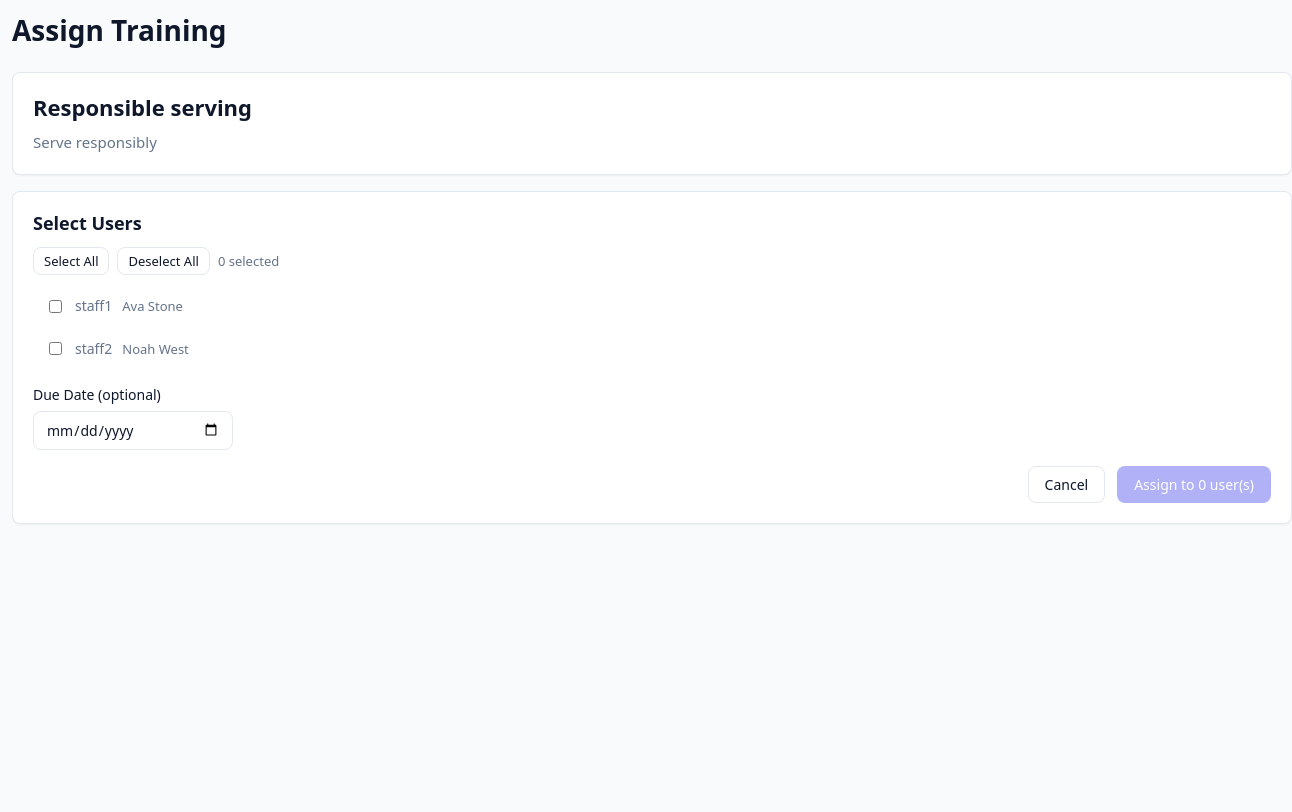
TrainingAssignView › loads the template and assigns training to selected users
expect the heading "Responsible serving" is shown: met, box [33,92,252,122]
Click the checkbox labelled "staff1 Ava Stone". click: (56, 307)
box: [49,300,62,313]
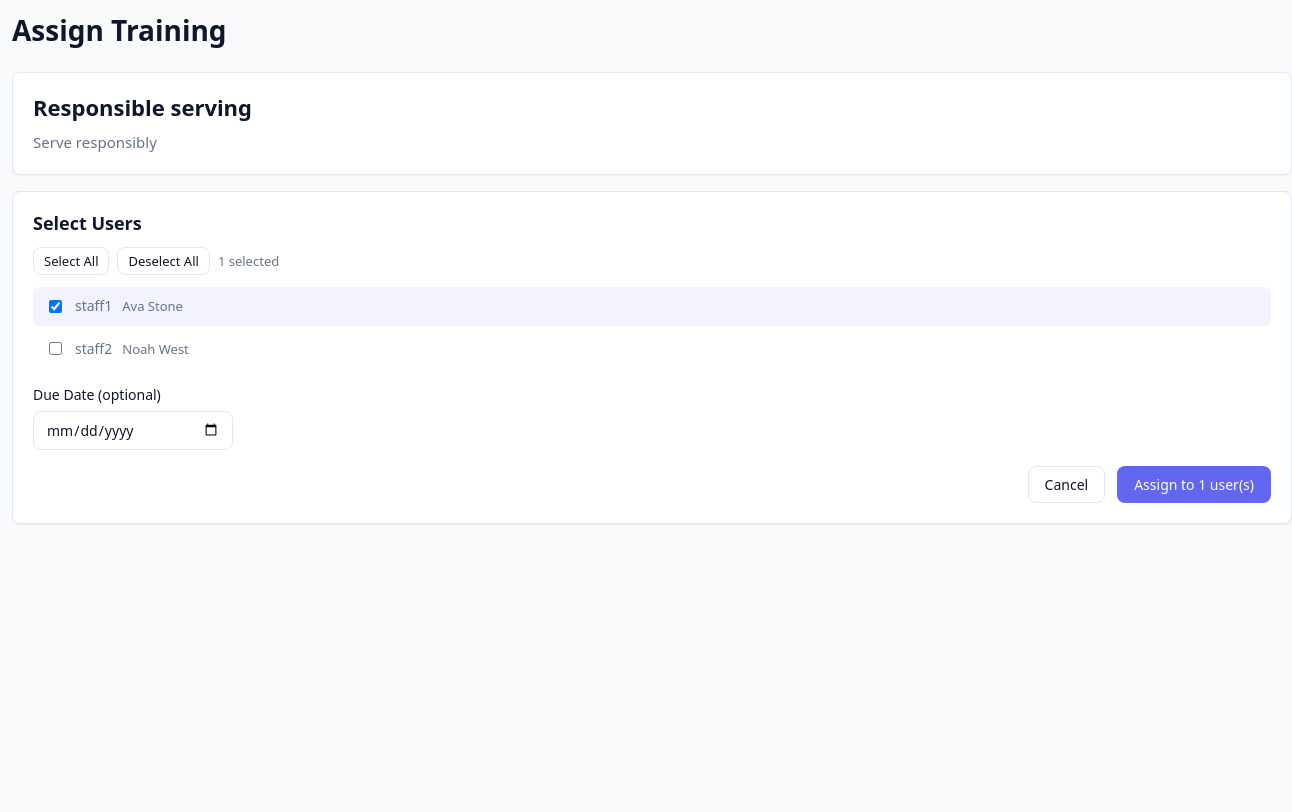
Type "2026-04-05" into the date field. click: (133, 430)
box: [33,410,233,450]
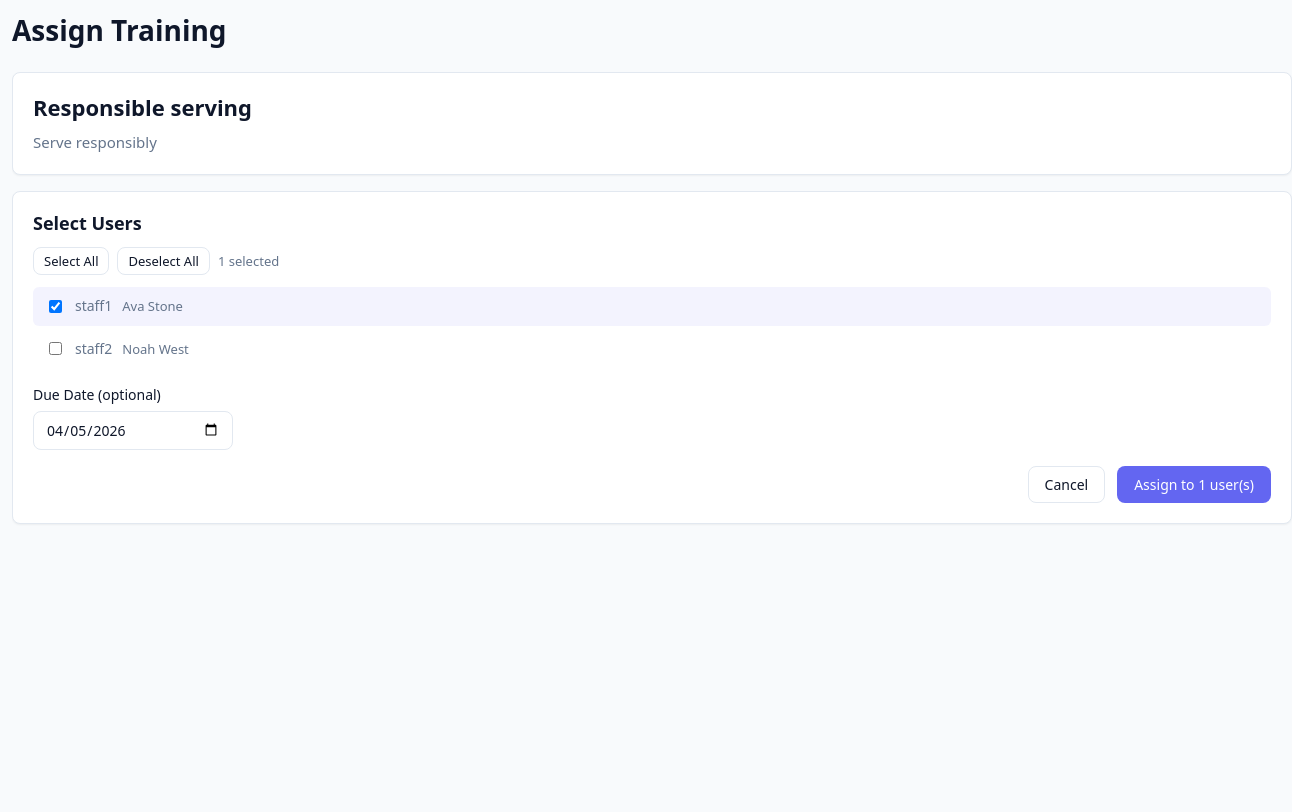
Click the button "Assign to 1 user(s)". click: (1194, 484)
box: [1117,466,1271,502]
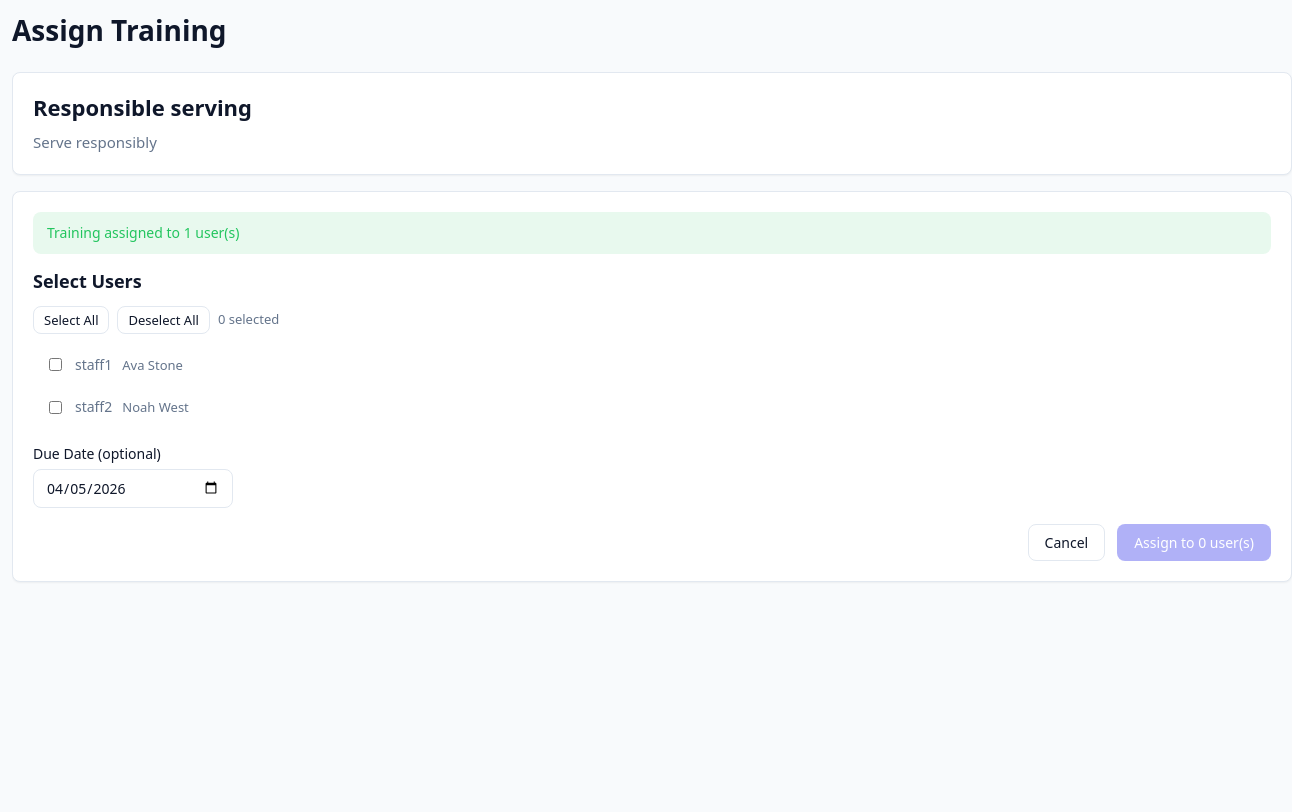
expect the text "Training assigned to 1 user(s)" is shown: met, box [33,212,1271,254]
